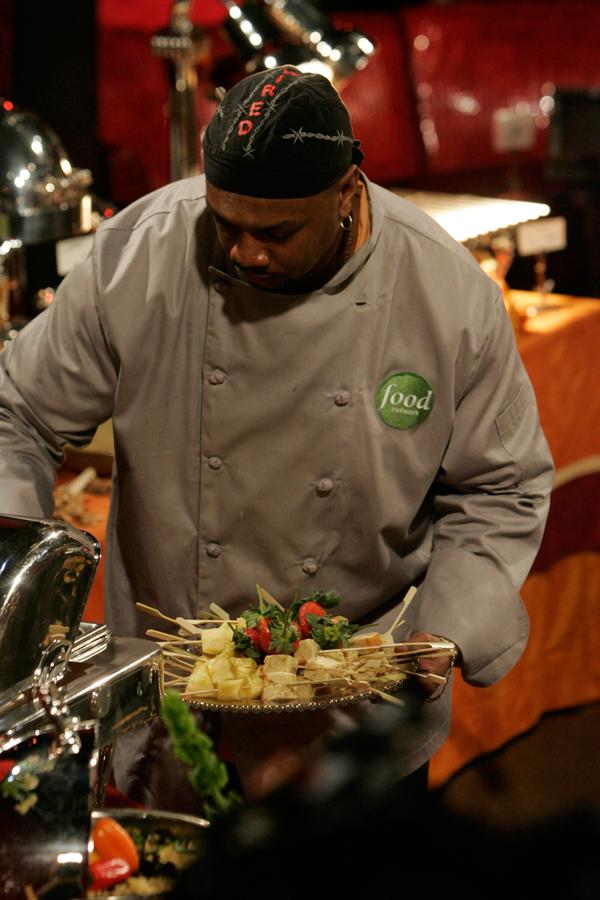person: (1, 73, 556, 797)
